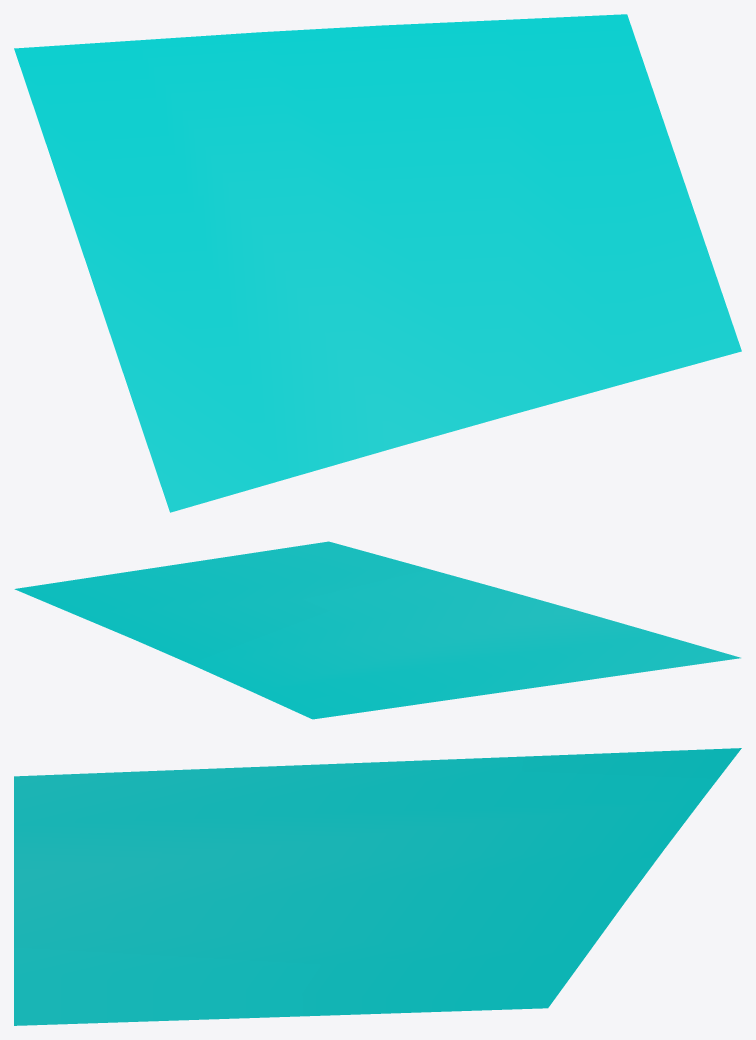
3 renders of one model, top to bottom at view 1: azimuth 30°, elevation 25°; view 2: azimuth 150°, elevation 25°; view 3: azimuth 270°, elevation 25°, orthographic. The views are drawn at different scales.
Visible parts, largest first — view 1: SpaceCenter_Long3_GenerateRoad_Sand_TireTracks_Width_Mesh_x9; view 2: SpaceCenter_Long3_GenerateRoad_Sand_TireTracks_Width_Mesh_x9; view 3: SpaceCenter_Long3_GenerateRoad_Sand_TireTracks_Width_Mesh_x9.
Part boxes in pixels (left/top/right/bottom): SpaceCenter_Long3_GenerateRoad_Sand_TireTracks_Width_Mesh_x9: left=14, top=14, right=741, bottom=512; SpaceCenter_Long3_GenerateRoad_Sand_TireTracks_Width_Mesh_x9: left=14, top=541, right=740, bottom=719; SpaceCenter_Long3_GenerateRoad_Sand_TireTracks_Width_Mesh_x9: left=14, top=748, right=741, bottom=1025.
Bounding box in the file's own units: 43.18 × 48.66 × 8.64.
